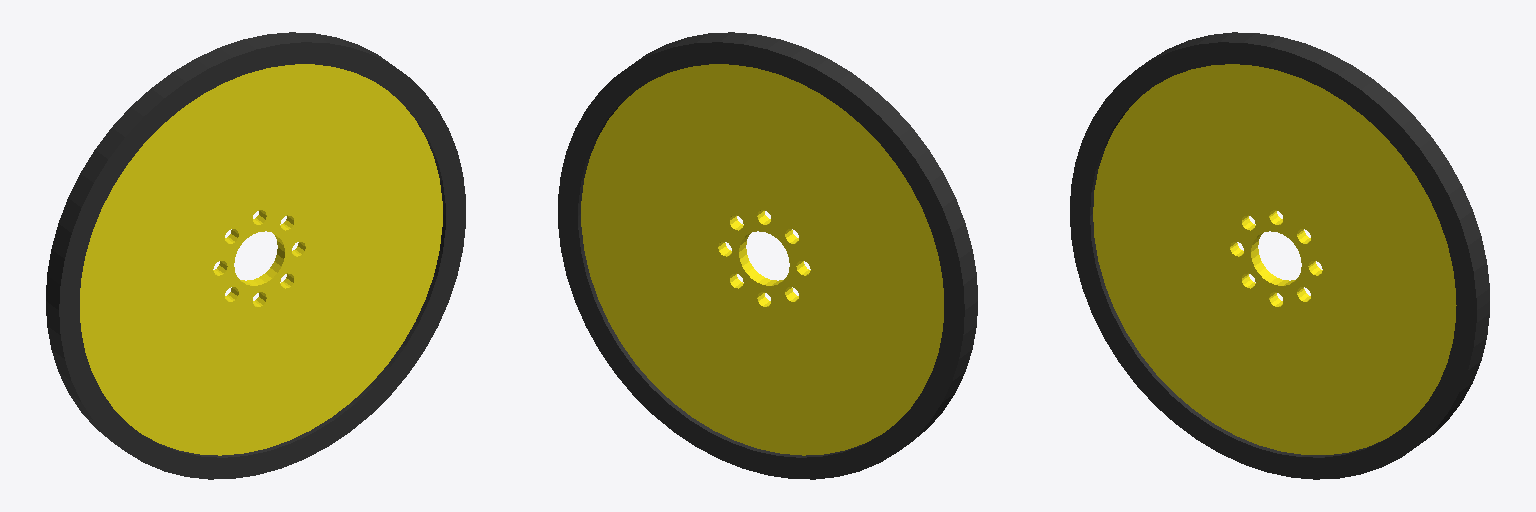
File: ROB-12386.obj
The picture shows the model from 3 angles: view 1: azimuth 30°, elevation 25°; view 2: azimuth 150°, elevation 25°; view 3: azimuth 330°, elevation 25°; orthographic projection.
Parts seen in each view (by area): view 1: mesh 2 Boss-Extrude1, mesh 1 RO; view 2: mesh 2 Boss-Extrude1, mesh 1 RO; view 3: mesh 2 Boss-Extrude1, mesh 1 RO.
Boxes of the visible parts, x1=… form: mesh 2 Boss-Extrude1: x1=80, y1=64, x2=442, y2=455; mesh 1 RO: x1=46, y1=32, x2=465, y2=479; mesh 2 Boss-Extrude1: x1=581, y1=64, x2=943, y2=455; mesh 1 RO: x1=558, y1=32, x2=977, y2=479; mesh 2 Boss-Extrude1: x1=1093, y1=64, x2=1456, y2=454; mesh 1 RO: x1=1070, y1=32, x2=1489, y2=479.
Size of the model in its own units: 0.1016 by 0.1016 by 0.0058.